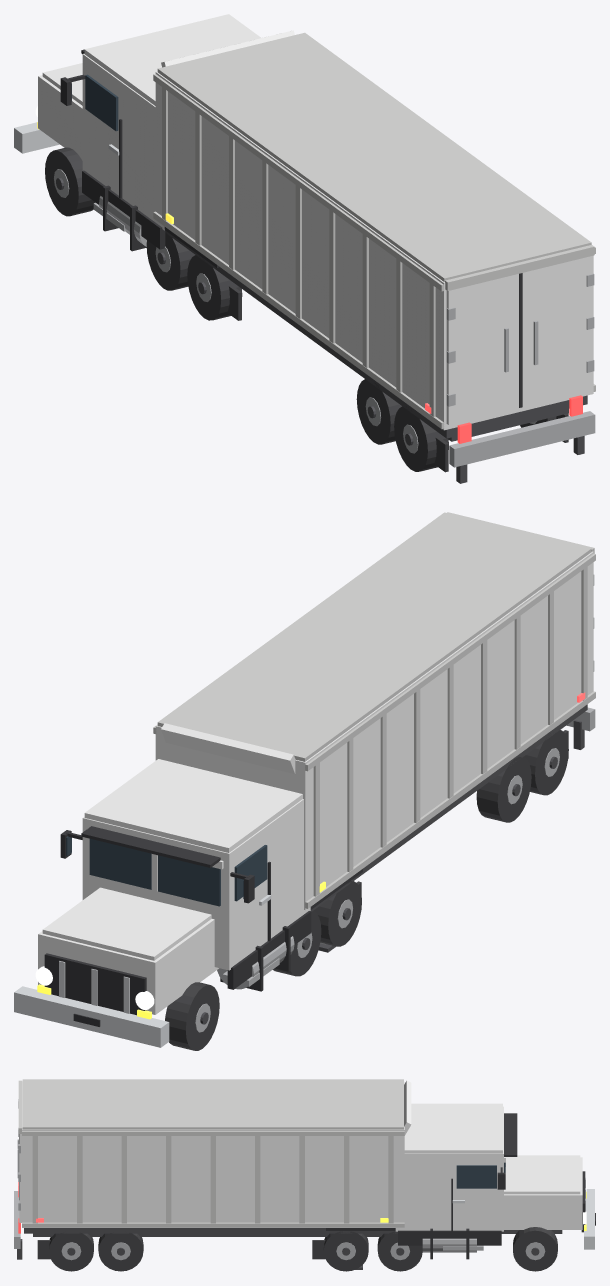
File: semi.glb
The picture shows the model from 3 angles, top to bottom: view 1: azimuth 30°, elevation 25°; view 2: azimuth 150°, elevation 25°; view 3: azimuth 270°, elevation 25°; orthographic projection. The views are drawn at different scales.
Parts seen in each view (by area): view 1: TrailerRoof, TrailerBox, RearDoor_L, RearDoor_R, CabMain, RoofCap, ICCBar, TrailerFloor, TopRail_L, BottomRail_L, Hood, Steer_L_Tire (+19 smaller); view 2: TrailerRoof, TrailerBox, RoofCap, CabMain, HoodTop, Hood, FrontBumper, Grille, RoofFairing, TopRail_L, Steer_L_Tire, BottomRail_L (+19 smaller); view 3: TrailerBox, TrailerRoof, CabMain, RoofCap, HoodTop, Hood, BottomRail_R, TrailerFloor, TopRail_R, Steer_R_Tire, Drive2_R_Tire, Trailer1_R_Tire (+19 smaller).
Boxes of the visible parts, bbox=[...] form: TrailerRoof: bbox=[157, 32, 591, 281]; TrailerBox: bbox=[155, 71, 593, 430]; RearDoor_L: bbox=[446, 274, 518, 424]; RearDoor_R: bbox=[522, 256, 592, 406]; CabMain: bbox=[82, 53, 164, 230]; RoofCap: bbox=[84, 14, 260, 105]; ICCBar: bbox=[449, 411, 595, 467]; TrailerFloor: bbox=[165, 230, 587, 438]; TopRail_L: bbox=[153, 74, 443, 291]; BottomRail_L: bbox=[153, 211, 444, 429]; Hood: bbox=[38, 75, 82, 160]; Steer_L_Tire: bbox=[45, 147, 95, 216]; TrailerRoof: bbox=[157, 512, 591, 761]; TrailerBox: bbox=[155, 551, 593, 910]; RoofCap: bbox=[84, 759, 302, 852]; CabMain: bbox=[82, 799, 310, 970]; HoodTop: bbox=[42, 887, 211, 960]; Hood: bbox=[38, 919, 218, 1014]; FrontBumper: bbox=[14, 986, 169, 1047]; Grille: bbox=[44, 953, 146, 1015]; RoofFairing: bbox=[161, 723, 295, 773]; TopRail_L: bbox=[305, 553, 595, 771]; Steer_L_Tire: bbox=[165, 982, 219, 1050]; BottomRail_L: bbox=[305, 691, 595, 908]; TrailerBox: bbox=[22, 1081, 404, 1227]; TrailerRoof: bbox=[22, 1079, 403, 1129]; CabMain: bbox=[395, 1106, 503, 1231]; RoofCap: bbox=[404, 1103, 502, 1153]; HoodTop: bbox=[504, 1155, 580, 1194]; Hood: bbox=[504, 1157, 582, 1229]; BottomRail_R: bbox=[22, 1222, 404, 1227]; TrailerFloor: bbox=[24, 1228, 397, 1233]; TopRail_R: bbox=[22, 1131, 404, 1135]; Steer_R_Tire: bbox=[513, 1227, 557, 1271]; Drive2_R_Tire: bbox=[323, 1231, 368, 1271]; Trailer1_R_Tire: bbox=[98, 1232, 143, 1271].
Bounding box in the file's own units: 3.2 × 3.61 × 12.92.
